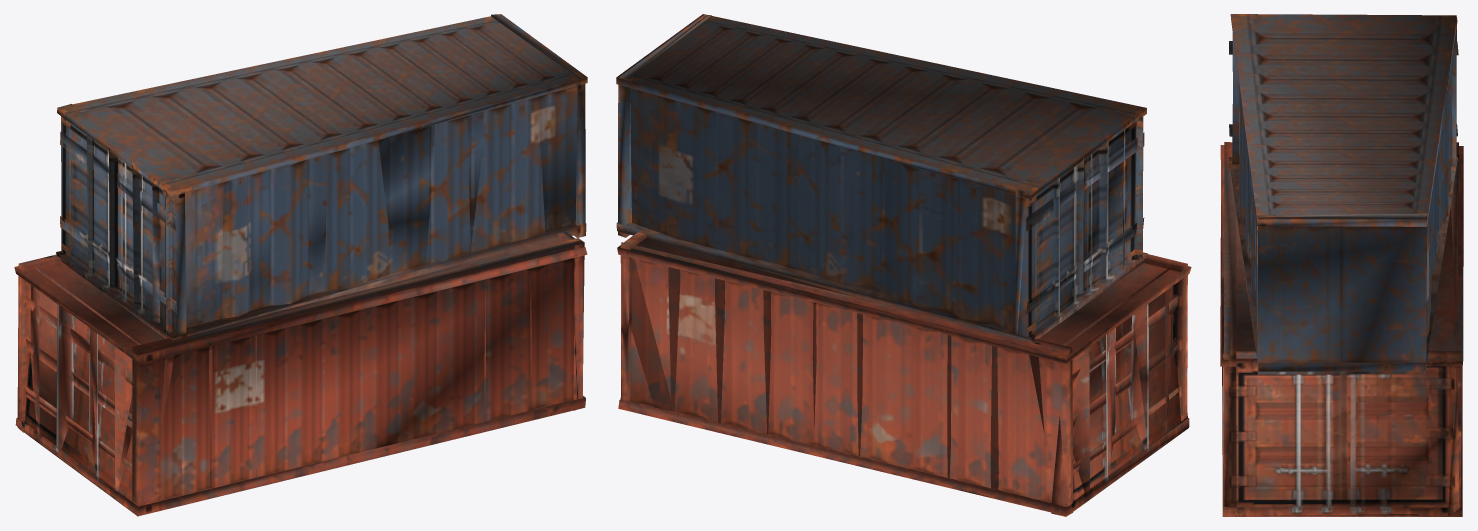
File: Meshy_AI_Rusty_Stacked_Shippin_0910090121_texture.fbx
3 renders of one model, left to right at view 1: azimuth 30°, elevation 25°; view 2: azimuth 150°, elevation 25°; view 3: azimuth 270°, elevation 25°, orthographic. The views are drawn at different scales.
Parts seen in each view (by area): view 1: Mesh_0; view 2: Mesh_0; view 3: Mesh_0.
Part boxes in pixels (left/top/right/bottom): Mesh_0: left=14, top=14, right=587, bottom=516; Mesh_0: left=616, top=14, right=1191, bottom=516; Mesh_0: left=1220, top=14, right=1463, bottom=516.
Size of the model in its own units: 100 by 64.26 by 45.9.
1 material, 1 textured.
